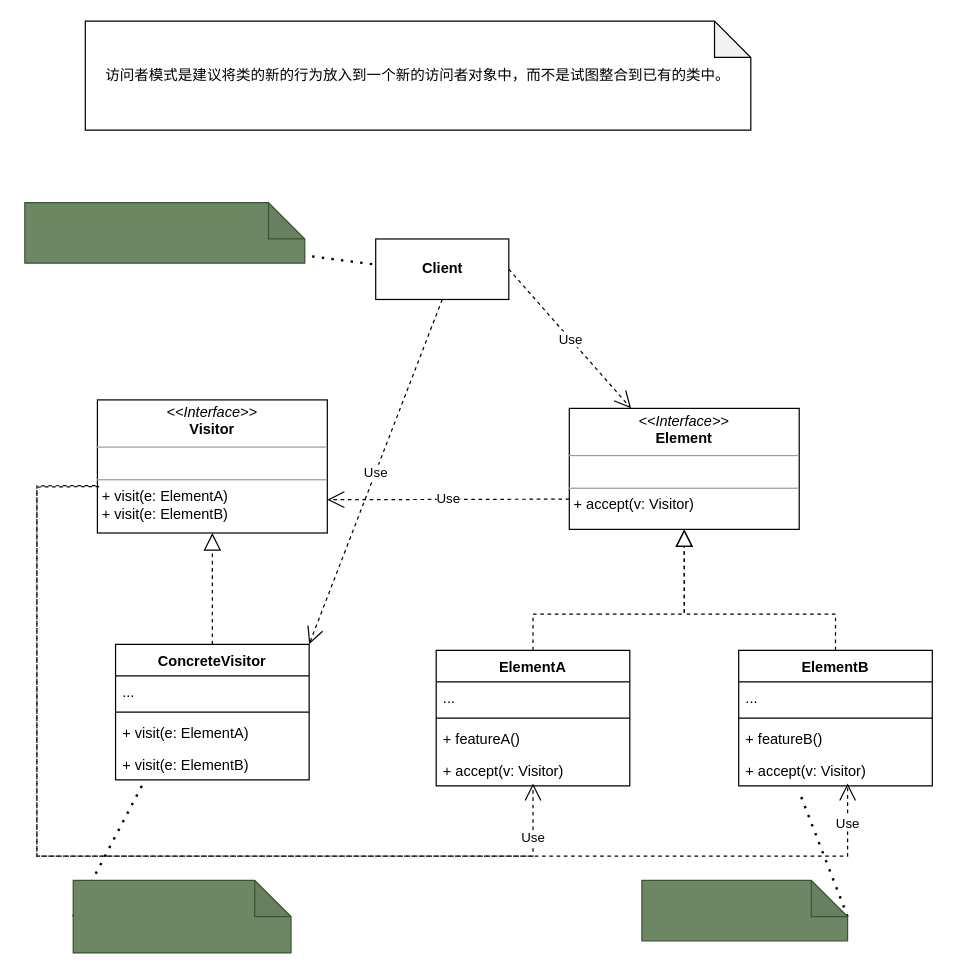
This 953x974 diagram has some shape labels left out. Here are the shapes that lost their labels. From the top down, the centre of each, then its label:
At point 164,232: "element.accept(new ConcreteVisitor())".
At point 181,916: "// 访问者知晓与其协作的元素的具体类 e.featureB();".
At point 744,910: "v.visit(this);".
